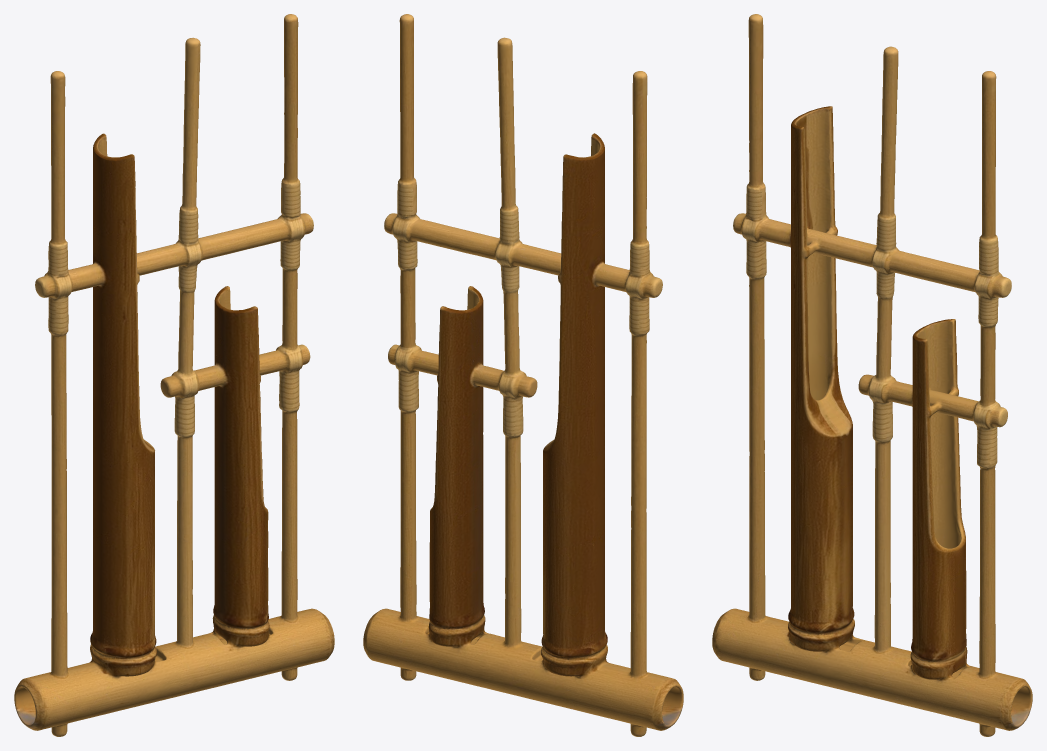
The model's file is angklung.glb.
3 views of the same model, side by side, from view 1: azimuth 30°, elevation 25°; view 2: azimuth 150°, elevation 25°; view 3: azimuth 330°, elevation 25° (orthographic).
Size of the model in its own units: 0.8933 by 1.9 by 0.1829.
Materials: 1 (1 with a texture image).
